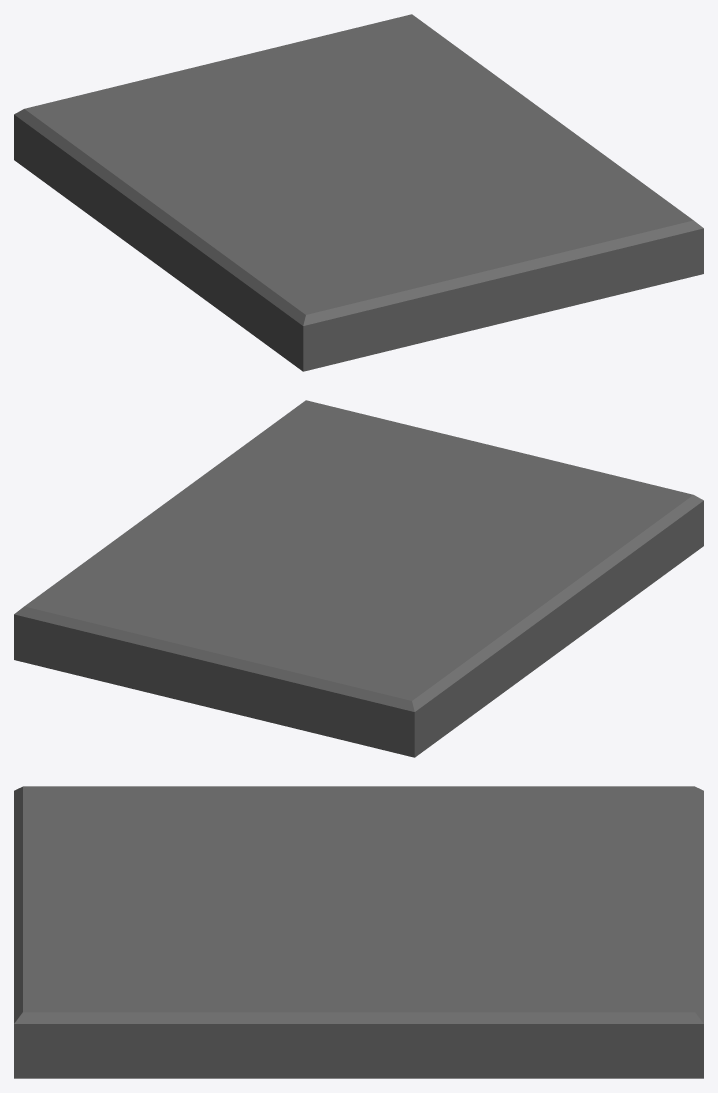
File: Stone_1_6.fbx
3 views of the same model, one above another, from view 1: azimuth 30°, elevation 25°; view 2: azimuth 150°, elevation 25°; view 3: azimuth 270°, elevation 25° (orthographic). The views are drawn at different scales.
Visible parts, largest first — view 1: Stone_1_6; view 2: Stone_1_6; view 3: Stone_1_6.
Boxes of the visible parts, x1,y1,x2,y2 form: Stone_1_6: [14, 14, 703, 371]; Stone_1_6: [14, 400, 703, 757]; Stone_1_6: [14, 786, 703, 1078].
Size of the model in its own units: 31.5 by 3.94 by 39.37.
